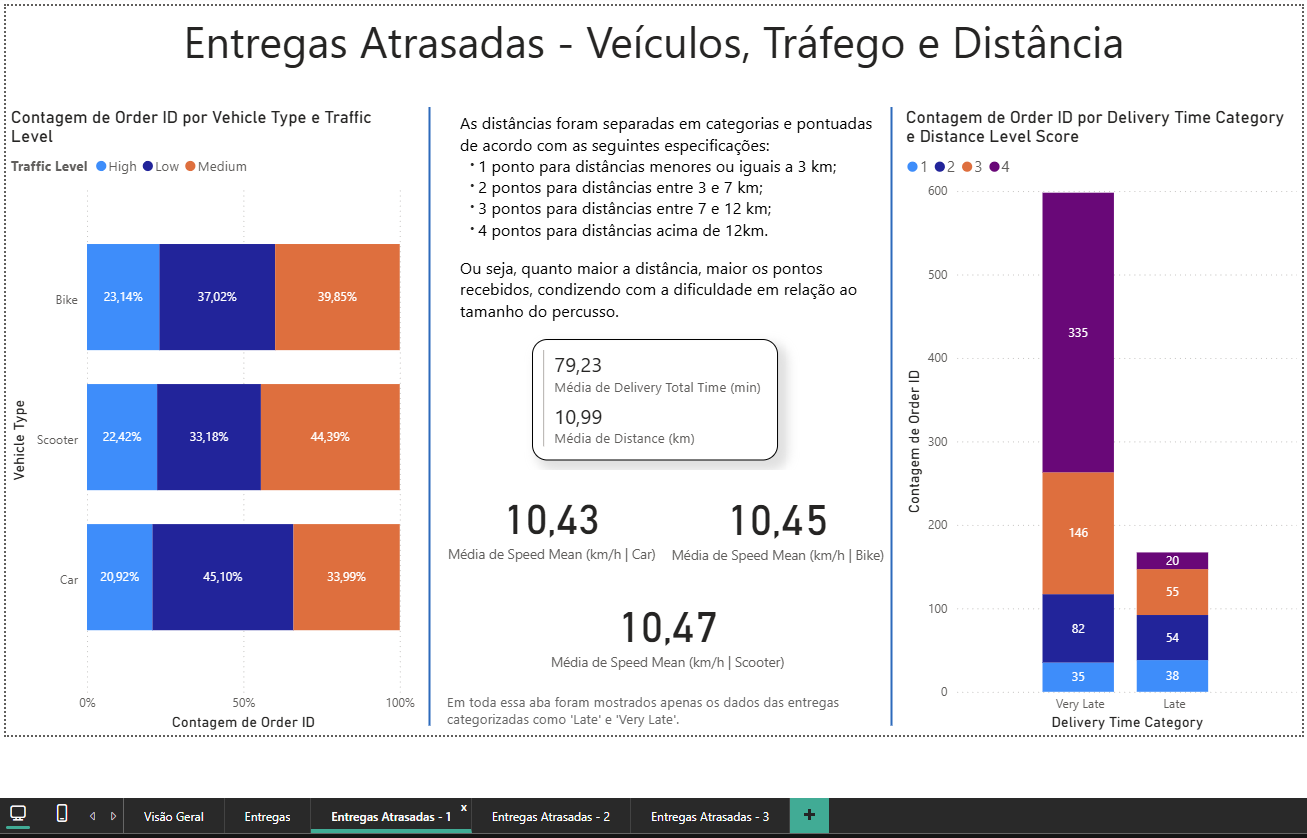

The page's visual inventory and layout, read from the dashboard file:
{"tool":"powerbi","page":{"name":"Entregas Atrasadas - 1","canvas":[1280,720],"ordinal":2},"visuals":[{"type":"columnChart","fields":{"Y":["CountNonNull(df_food_delivery.Order ID)"],"Category":["df_food_delivery.Delivery Time Category"],"Series":["df_food_delivery.Distance Level Score"]},"box":[884,99.8,396,620.2],"z":0},{"type":"hundredPercentStackedBarChart","fields":{"Category":["df_food_delivery.Vehicle Type"],"Y":["CountNonNull(df_food_delivery.Order ID)"],"Series":["df_food_delivery.Traffic Level"]},"box":[0,99.8,408.9,620.2],"z":1000},{"type":"textbox","box":[0,0,1280,74.8],"z":2000},{"type":"textbox","box":[443.3,99.7,431.6,221.6],"z":3000},{"type":"textbox","box":[430.6,673.4,444.3,46.7],"z":4000},{"type":"multiRowCard","fields":{"Values":["Avg(df_food_delivery.Delivery Total Time (min))","Avg(df_food_delivery.Distance (km))"]},"box":[519.5,328.9,243,119.5],"z":5000},{"type":"card","fields":{"Values":["Avg(df_food_delivery.Speed Mean (km/h))"]},"box":[427.4,458.1,222.7,106],"z":6000},{"type":"card","fields":{"Values":["Avg(df_food_delivery.Speed Mean (km/h))"]},"box":[650.1,458.1,224.8,106],"z":7000},{"type":"card","fields":{"Values":["Avg(df_food_delivery.Speed Mean (km/h))"]},"box":[530.2,564.2,246,106],"z":8000},{"type":"shape","box":[408.9,99.8,18.8,611.4],"z":8001},{"type":"shape","box":[865.2,99.8,18.8,611.4],"z":8002}]}

Visuals, with their boxes on the page's 1280x720 design canvas (x1, y1, x2, y2). These are canvas units, not pixel positions in the 1307x838 screenshot, which may show the page scaled, cropped or inside an application window:
columnChart - CountNonNull(df_food_delivery.Order ID) x df_food_delivery.Delivery Time Category: x1=884, y1=100, x2=1280, y2=720
hundredPercentStackedBarChart - df_food_delivery.Vehicle Type x CountNonNull(df_food_delivery.Order ID): x1=0, y1=100, x2=409, y2=720
textbox: x1=0, y1=0, x2=1280, y2=75
textbox: x1=443, y1=100, x2=875, y2=321
textbox: x1=431, y1=673, x2=875, y2=720
multiRowCard - Avg(df_food_delivery.Delivery Total Time (min)) x Avg(df_food_delivery.Distance (km)): x1=520, y1=329, x2=762, y2=448
card - Avg(df_food_delivery.Speed Mean (km/h)): x1=427, y1=458, x2=650, y2=564
card - Avg(df_food_delivery.Speed Mean (km/h)): x1=650, y1=458, x2=875, y2=564
card - Avg(df_food_delivery.Speed Mean (km/h)): x1=530, y1=564, x2=776, y2=670
shape: x1=409, y1=100, x2=428, y2=711
shape: x1=865, y1=100, x2=884, y2=711
